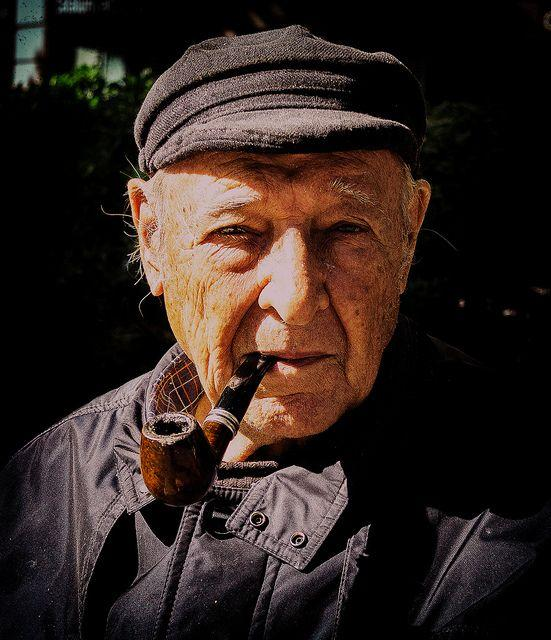trubka: (138, 352, 280, 509)
